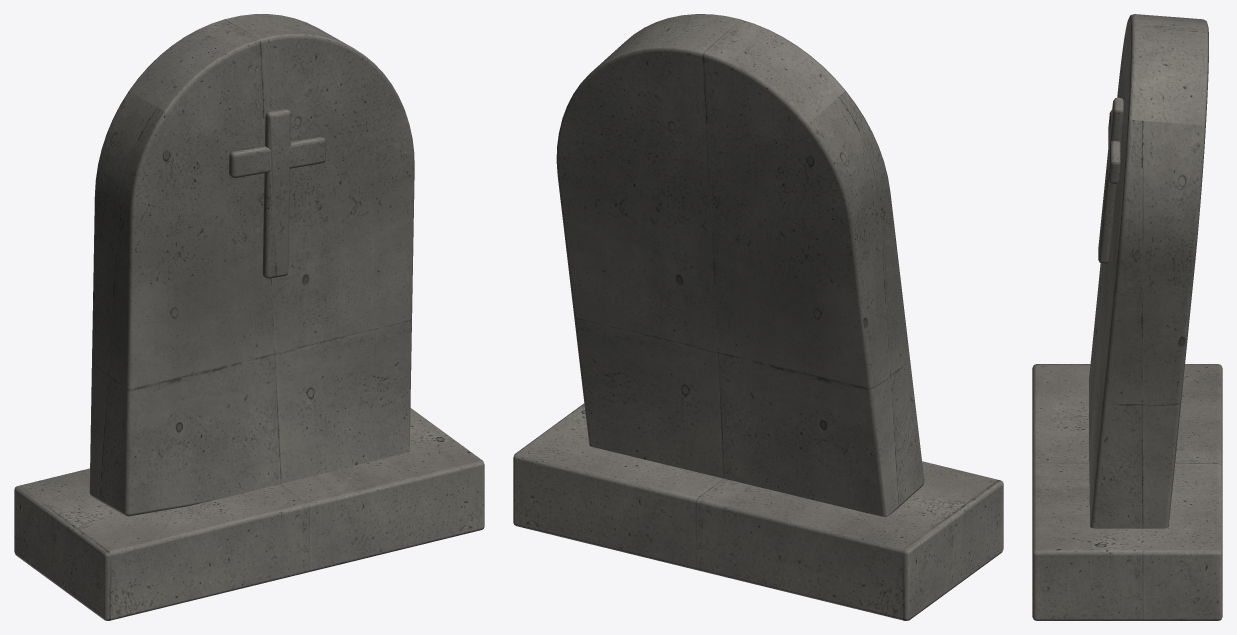
Rendered from Gravestone_A.gltf.
3 renders of one model, left to right at view 1: azimuth 30°, elevation 25°; view 2: azimuth 150°, elevation 25°; view 3: azimuth 270°, elevation 25°, orthographic. The views are drawn at different scales.
Visible parts, largest first — view 1: Gravestone_A_Slab, Gravestone_A_Base; view 2: Gravestone_A_Slab, Gravestone_A_Base; view 3: Gravestone_A_Slab, Gravestone_A_Base.
Boxes of the visible parts, x1,y1,x2,y2 form: Gravestone_A_Slab: [89, 14, 414, 516]; Gravestone_A_Base: [14, 408, 484, 620]; Gravestone_A_Slab: [556, 14, 924, 516]; Gravestone_A_Base: [513, 403, 1003, 620]; Gravestone_A_Slab: [1089, 14, 1208, 528]; Gravestone_A_Base: [1032, 364, 1222, 620].
Size of what is drawn, in the model's own units: 0.8 by 1 by 0.34.
Materials: 1 (1 with a texture image).
